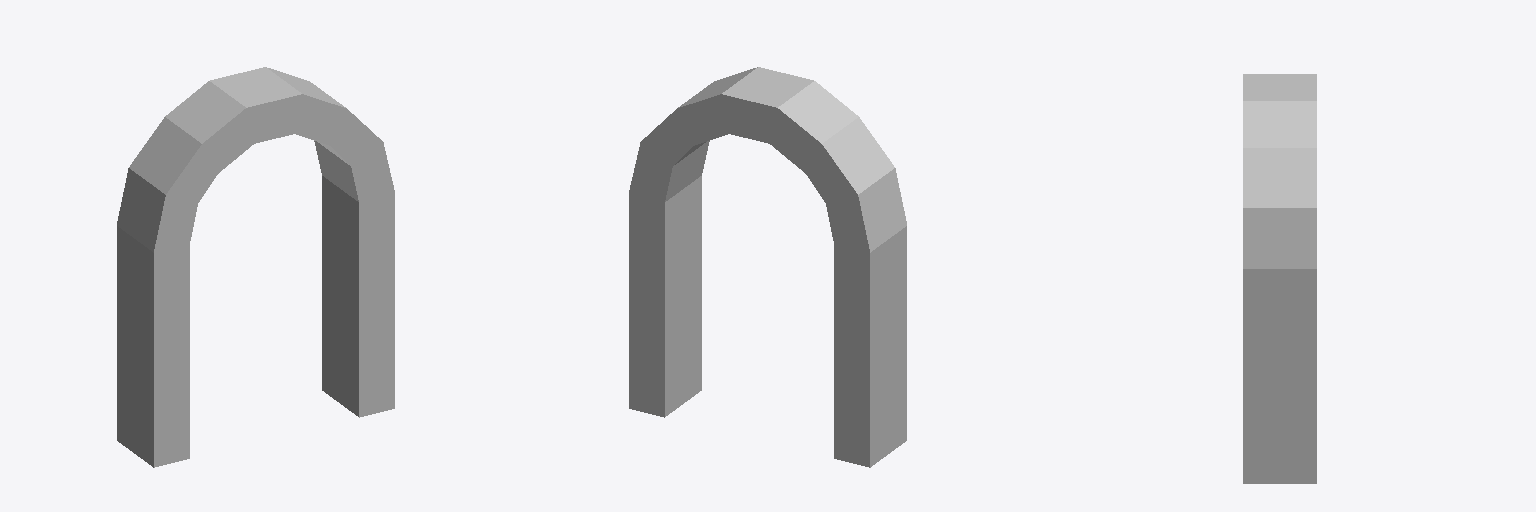
File: Arco.obj
3 views of the same model, side by side, from view 1: azimuth 30°, elevation 25°; view 2: azimuth 150°, elevation 25°; view 3: azimuth 270°, elevation 25° (orthographic).
Visible parts, largest first — view 1: Arch_Circle; view 2: Arch_Circle; view 3: Arch_Circle.
Boxes of the visible parts, x1=… form: Arch_Circle: x1=117, y1=67, x2=394, y2=467; Arch_Circle: x1=629, y1=67, x2=906, y2=467; Arch_Circle: x1=1243, y1=74, x2=1316, y2=483.
Bounding box in the file's own units: 3.75 × 5 × 1.